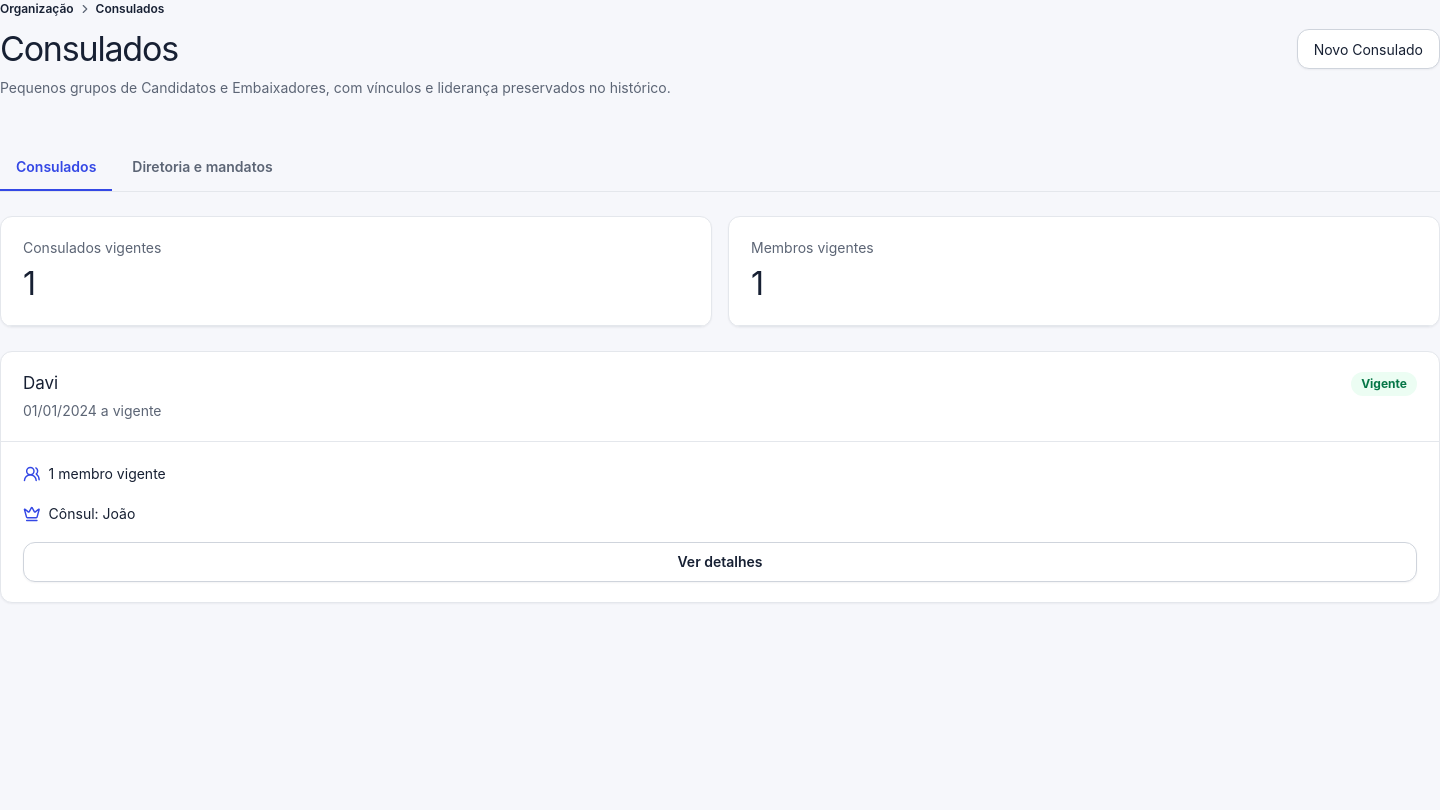
Test: Organização interna › separa lista, detalhe, vigentes e histórico em URLs estáveis
The image size is (1440, 810).
Check: the heading "Consulados" is shown, box [0,28,178,69]
Click the link "Ver detalhes" at (720, 562), box [23,542,1417,582]
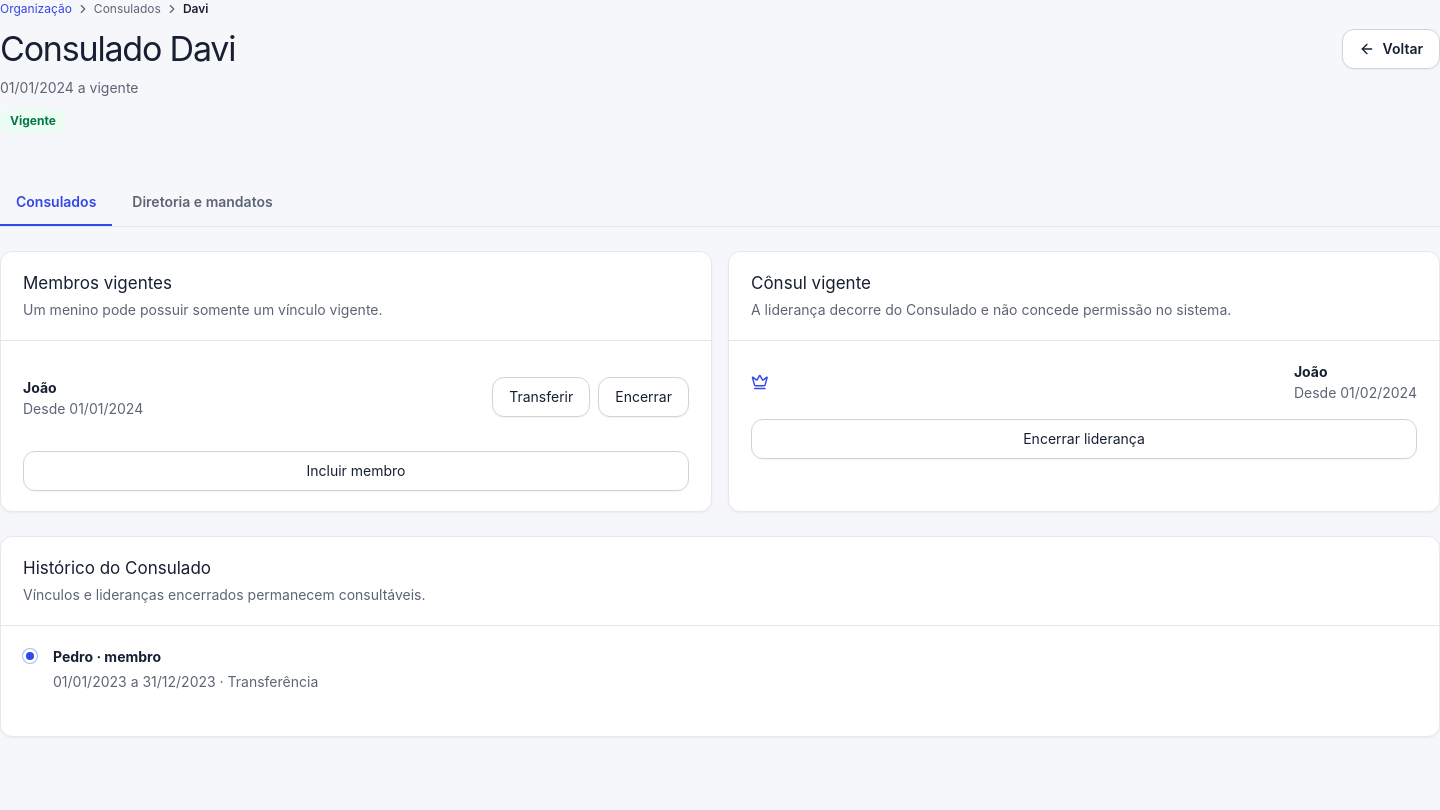
Check: the heading "Consulado Davi" is shown, box [0,29,235,70]
Check: the text "Pedro · membro" is shown, box [53,648,161,665]
Click the button "Transferir" at (541, 397), box [492,377,590,417]
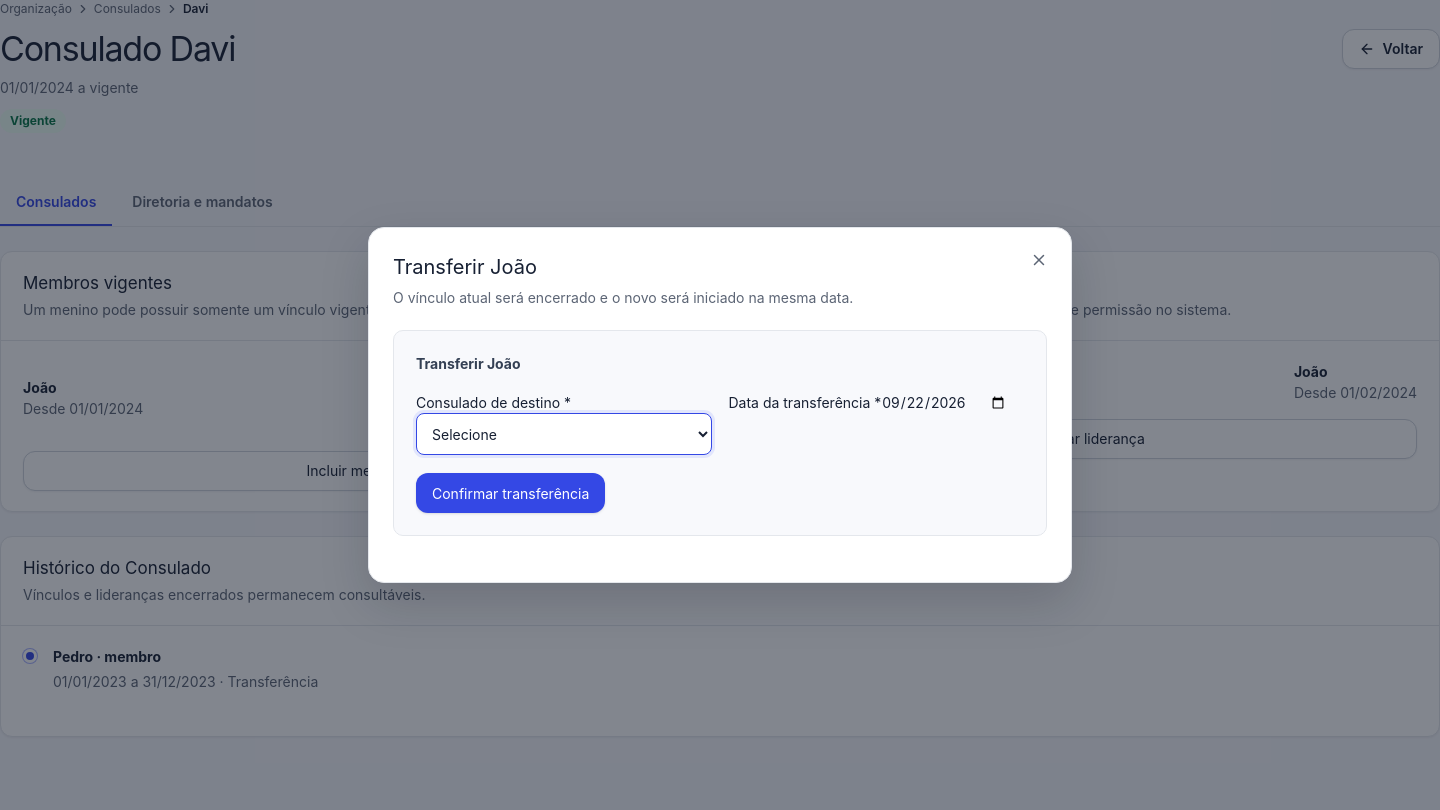
Check: the form "Transferir João" is shown, box [393,330,1047,536]
